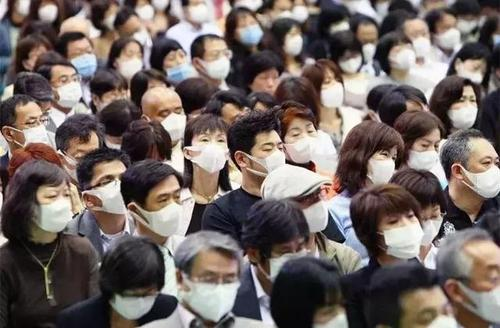yes_mask: (433, 227, 500, 327), (172, 229, 243, 323), (346, 185, 423, 263), (245, 198, 311, 281), (102, 236, 165, 320), (259, 163, 331, 236), (119, 159, 184, 238), (272, 259, 346, 327), (390, 170, 449, 249), (7, 163, 73, 233), (436, 128, 499, 201), (339, 117, 401, 190), (230, 109, 285, 177), (73, 150, 128, 216), (390, 109, 444, 174), (272, 99, 320, 166), (427, 74, 480, 133), (183, 115, 231, 174), (140, 87, 185, 148), (33, 58, 81, 113), (1, 96, 51, 148), (302, 61, 346, 111), (454, 39, 495, 91), (55, 32, 99, 80), (191, 32, 232, 82), (148, 37, 189, 85), (377, 32, 419, 76), (112, 36, 145, 82), (329, 32, 363, 76), (224, 8, 265, 43), (272, 19, 307, 58), (431, 8, 460, 54), (351, 13, 379, 60), (318, 1, 353, 38), (405, 16, 432, 62), (180, 2, 211, 28), (29, 1, 60, 26), (130, 1, 156, 19), (3, 1, 31, 16)
